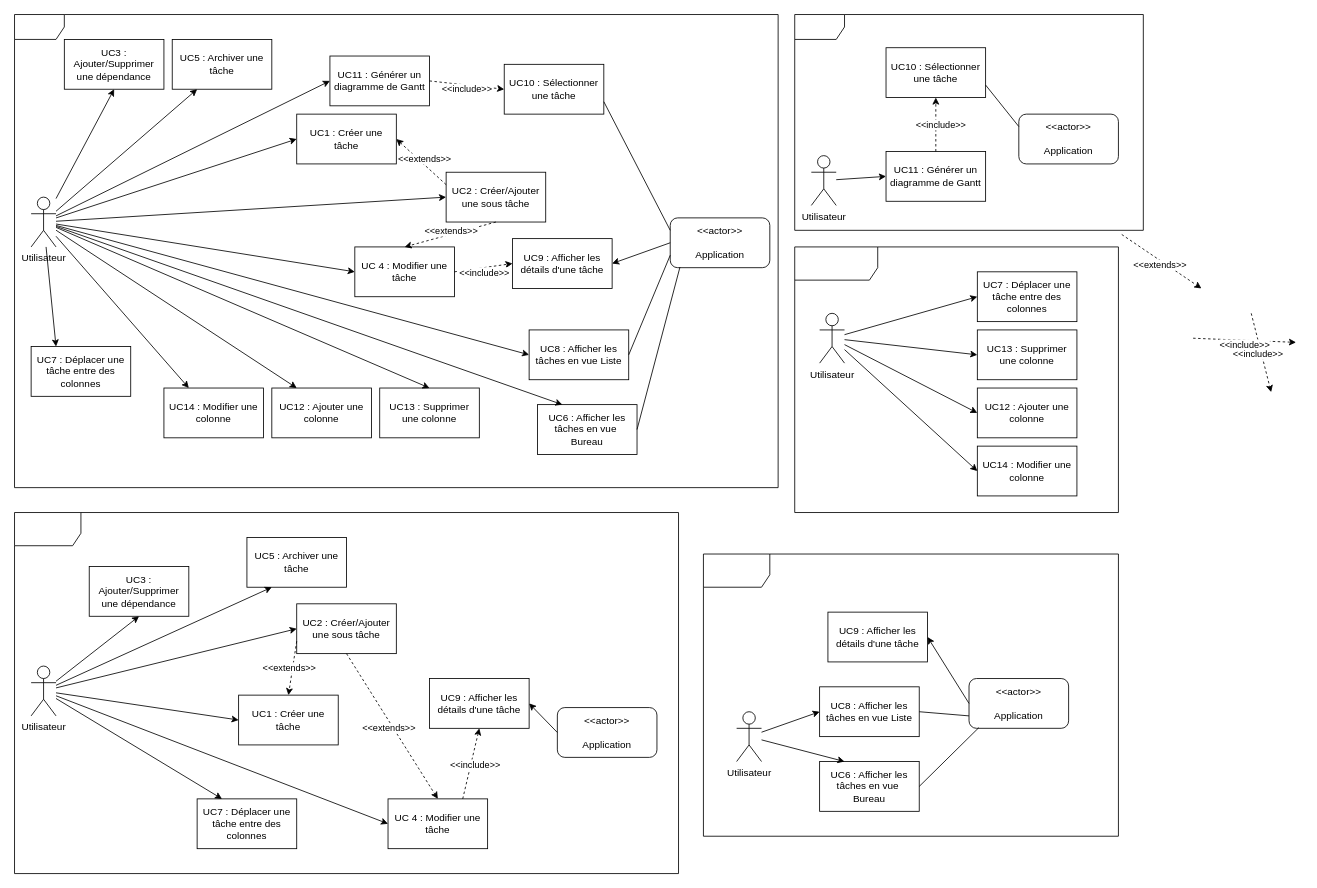
Some shapes in this 1317 by 888 pixel diagram are drawn without their labels. The shapes that lost their labels are listed below. From the top down, each one's box as (x1, y1, x2, y2) in pixels, then its label:
(794, 14, 1143, 230): Gantt
(14, 14, 778, 488): Global
(794, 246, 1118, 513): Gestion de colonnes
(14, 512, 679, 874): Gestion de tâches
(703, 553, 1118, 836): Affichage
